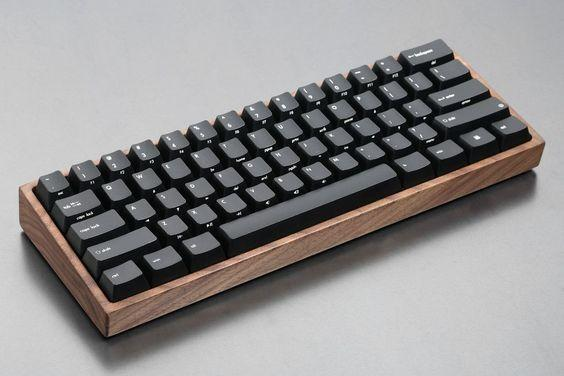keyboard: (19, 37, 544, 338)
